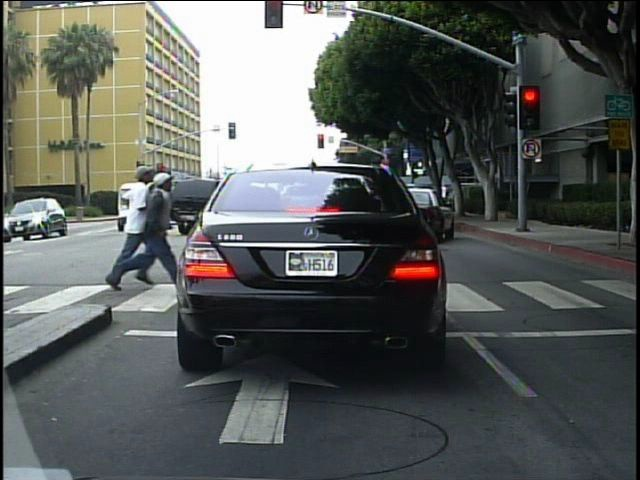person: (108, 170, 177, 296), (89, 164, 145, 296), (438, 179, 453, 214)
